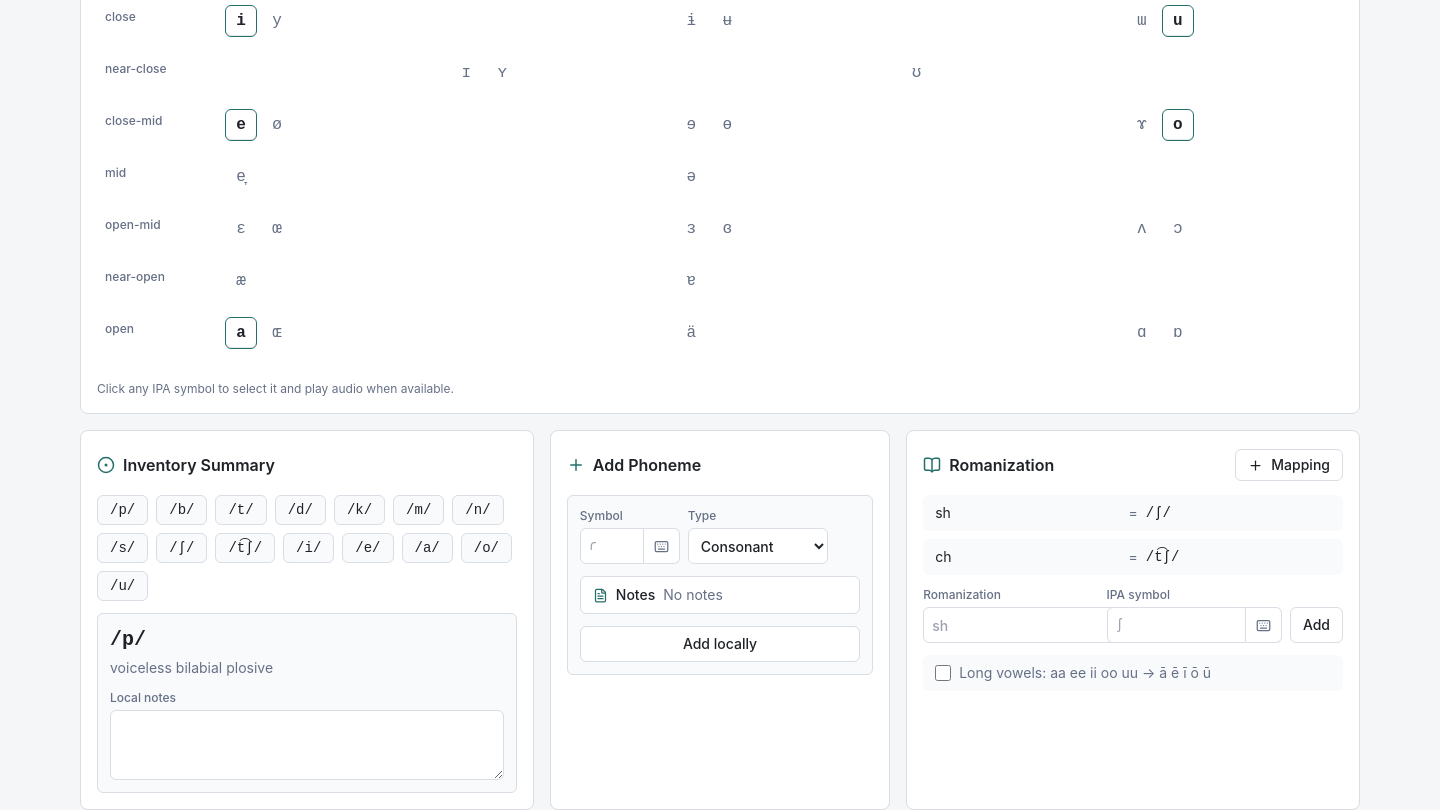
Test case: PhonologyWorkbench › adds romanization mappings on form submit
(page scrolled)
Type "ng" into the field named "Latin mapping" at (1042, 625), box top-left (923, 607), bottom-right (1160, 643)
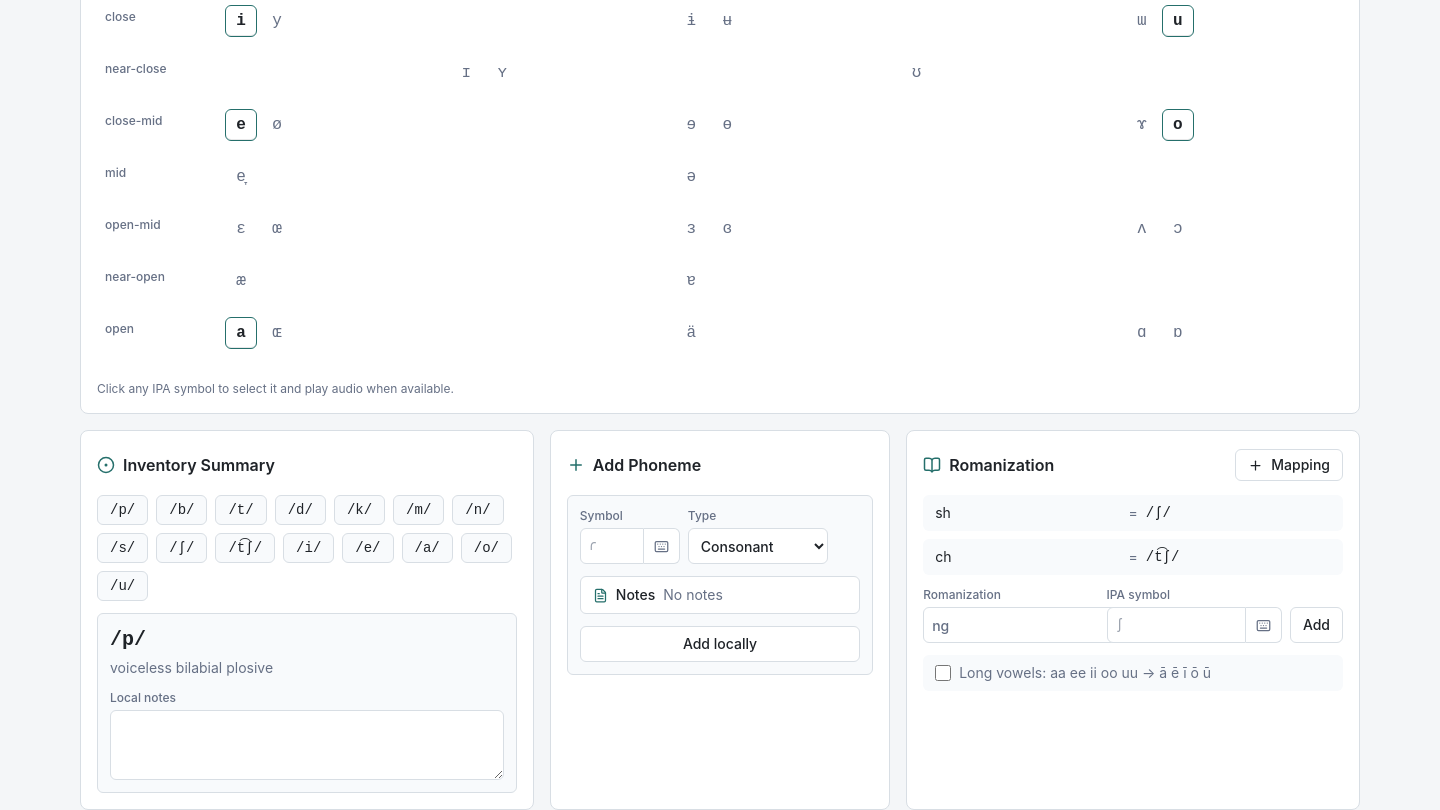
Type "ŋ" into the field labelled "IPA symbol" at (1176, 625), box top-left (1106, 607), bottom-right (1246, 643)
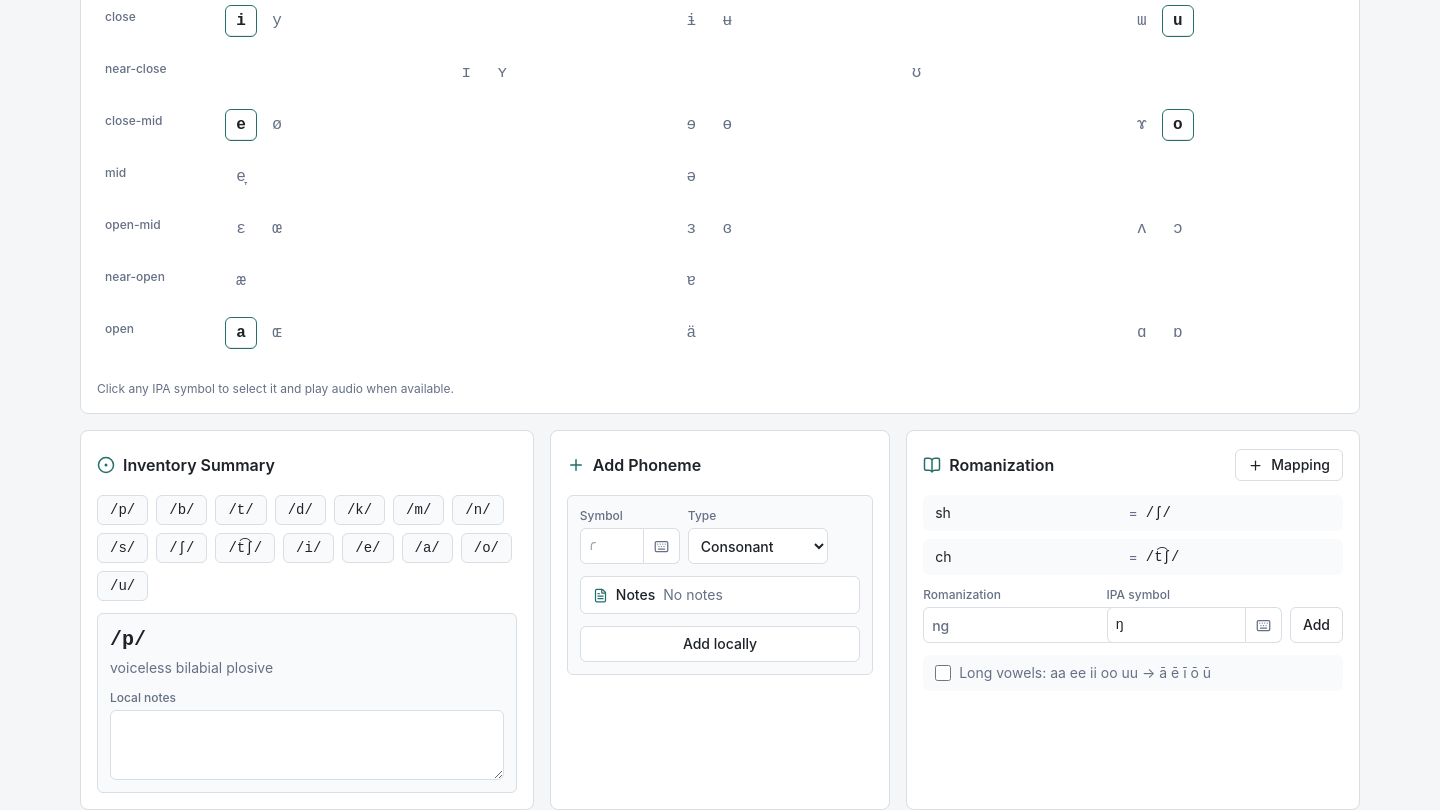
Submit the form named "Add romanization mapping", box top-left (923, 587), bottom-right (1343, 643)
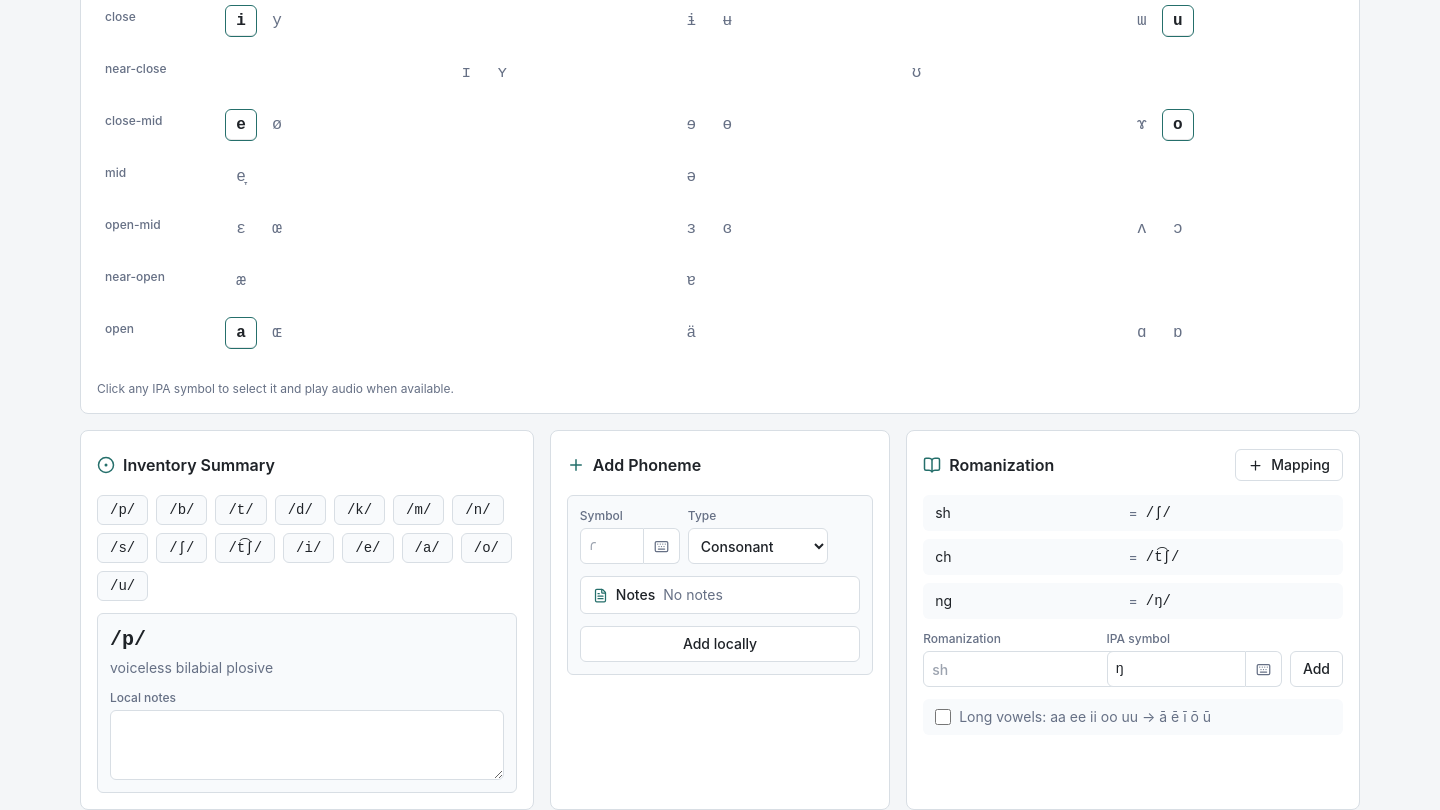
Result: the text "ng" is shown at top-left (935, 592), bottom-right (952, 609)
Result: the text "/ŋ/" is shown at top-left (1146, 593), bottom-right (1171, 609)
